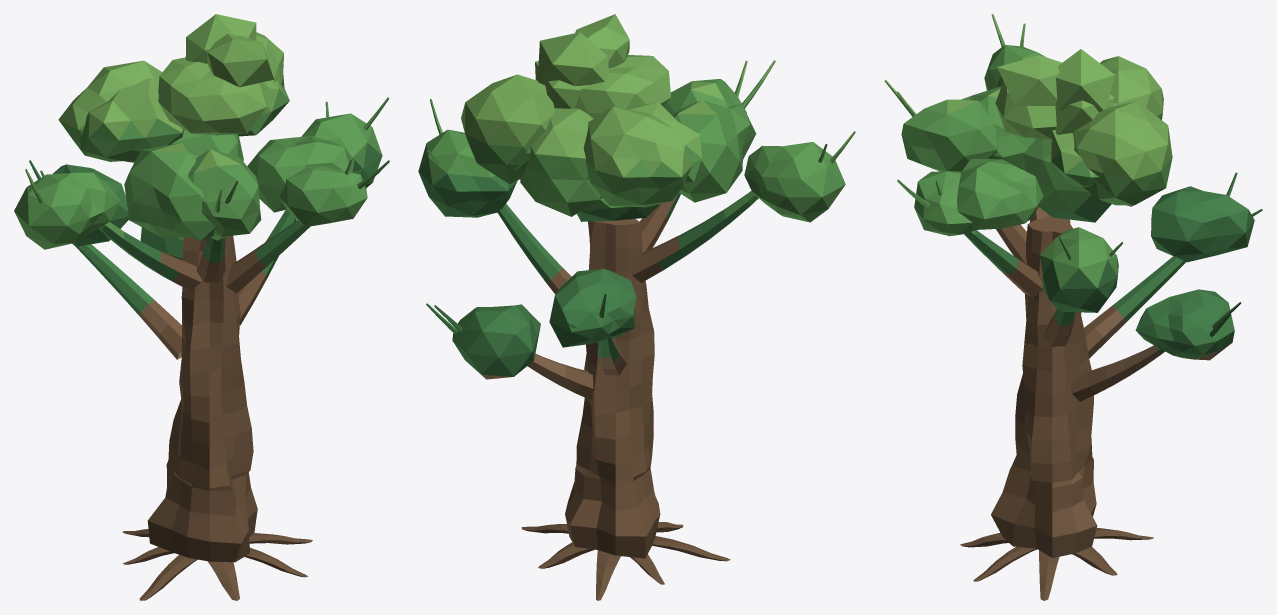
File: yggdrasil.glb
3 renders of one model, left to right at view 1: azimuth 30°, elevation 25°; view 2: azimuth 150°, elevation 25°; view 3: azimuth 270°, elevation 25°, orthographic. The views are drawn at different scales.
Parts seen in each view (by area): view 1: Yggdrasil_Top, Yggdrasil_Base; view 2: Yggdrasil_Top, Yggdrasil_Base; view 3: Yggdrasil_Top, Yggdrasil_Base.
Part boxes in pixels (left/top/right/bottom): Yggdrasil_Top: left=14, top=14, right=389, bottom=488; Yggdrasil_Base: left=122, top=460, right=312, bottom=600; Yggdrasil_Top: left=418, top=14, right=855, bottom=483; Yggdrasil_Base: left=521, top=464, right=730, bottom=600; Yggdrasil_Top: left=884, top=14, right=1262, bottom=482; Yggdrasil_Base: left=960, top=456, right=1153, bottom=600.
Size of the model in its own units: 28.12 by 36.24 by 24.09.
